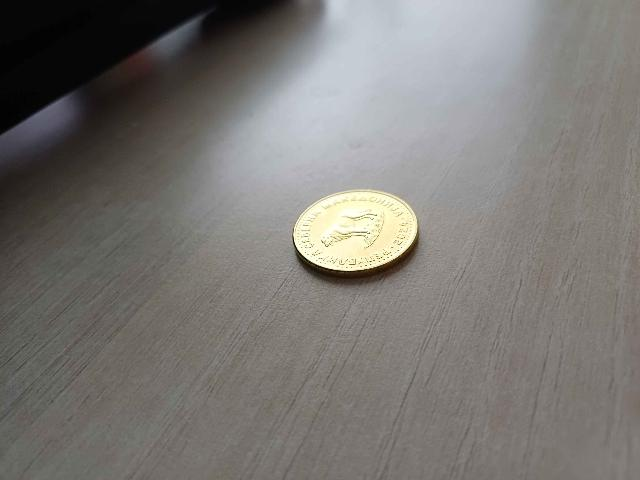1_coin: (292, 185, 417, 274)
